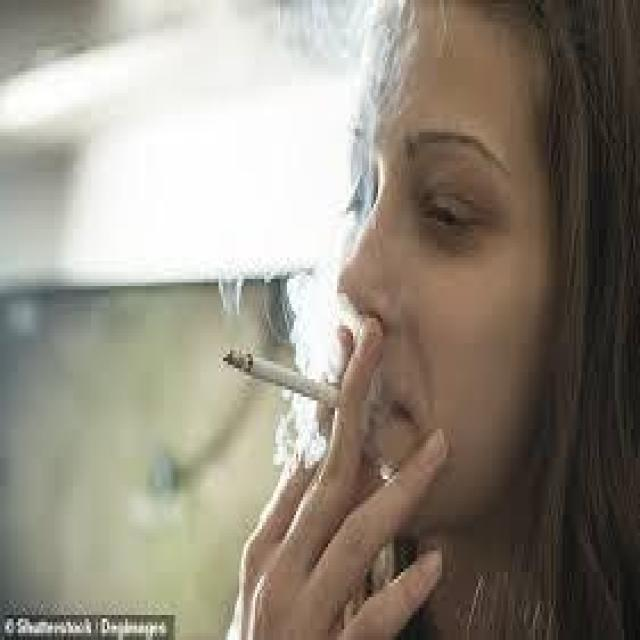Smoke: (228, 4, 412, 448)
